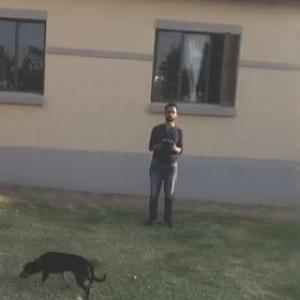follow: (140, 97, 184, 239)
null: (14, 246, 110, 299)
